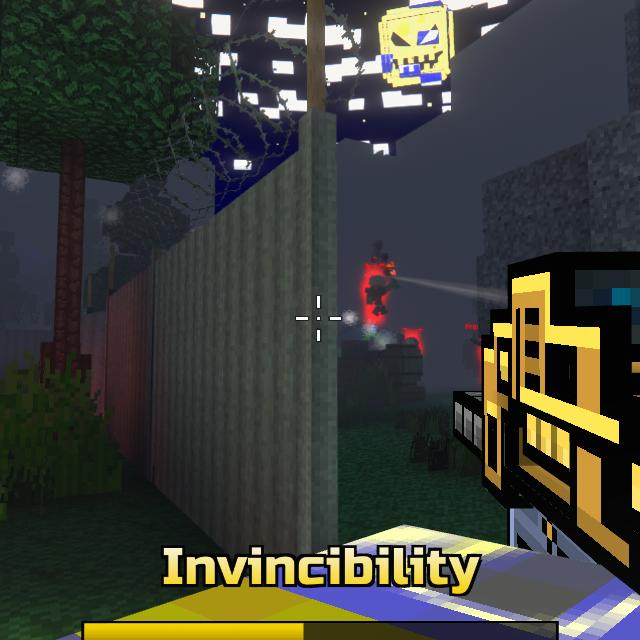Enemy: (364, 273, 390, 316)
